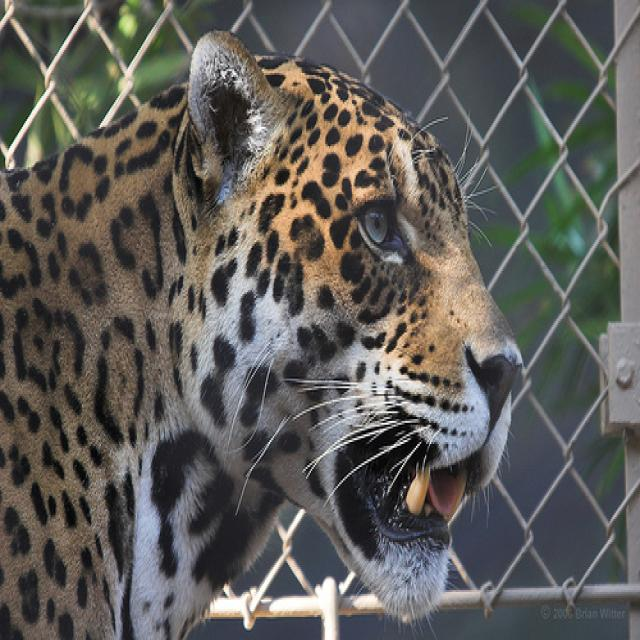Leopard: (1, 21, 522, 636)
